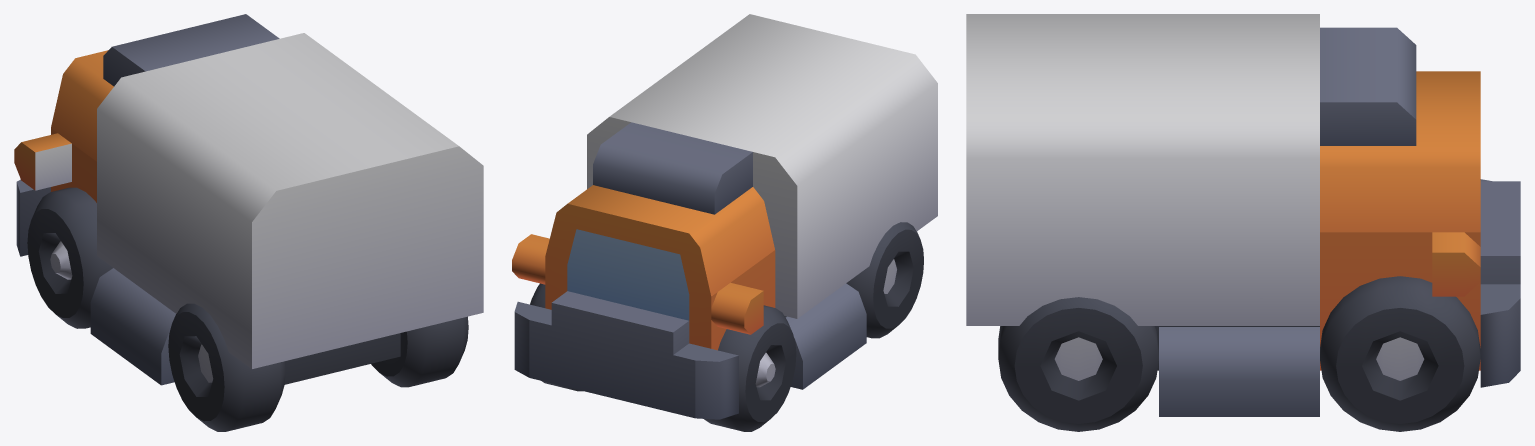
File: vehicle-truck.glb
The picture shows the model from 3 angles, left to right: view 1: azimuth 30°, elevation 25°; view 2: azimuth 150°, elevation 25°; view 3: azimuth 270°, elevation 25°; orthographic projection. The views are drawn at different scales.
Visible parts, largest first — view 1: vehicle-truck, wheel-bl, wheel-fl, wheel-br; view 2: vehicle-truck, wheel-fl, wheel-bl; view 3: vehicle-truck, wheel-fr, wheel-br.
Part boxes in pixels (x1,y1,x2,y2): vehicle-truck: [14, 14, 483, 385]; wheel-bl: [168, 303, 285, 431]; wheel-fl: [27, 187, 112, 328]; wheel-br: [371, 316, 468, 387]; vehicle-truck: [512, 14, 937, 419]; wheel-fl: [704, 305, 796, 431]; wheel-bl: [846, 222, 923, 338]; vehicle-truck: [966, 14, 1520, 416]; wheel-fr: [1320, 276, 1480, 431]; wheel-br: [998, 297, 1158, 431].
Size of the model in its own units: 0.525 by 0.525 by 0.8625.
